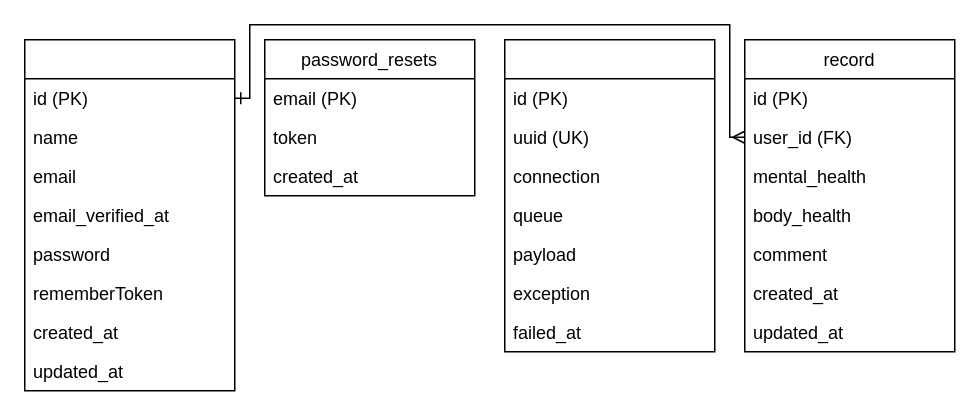
The diagram is 980 pixels wide and 416 high, and some of its shapes have lost their labels. The shapes that lost their labels are listed below. From the top down, each one's box as (x1, y1, x2, y2) in pixels, then its label:
(23, 38, 235, 391): users
(503, 38, 715, 352): feiled_jobs
